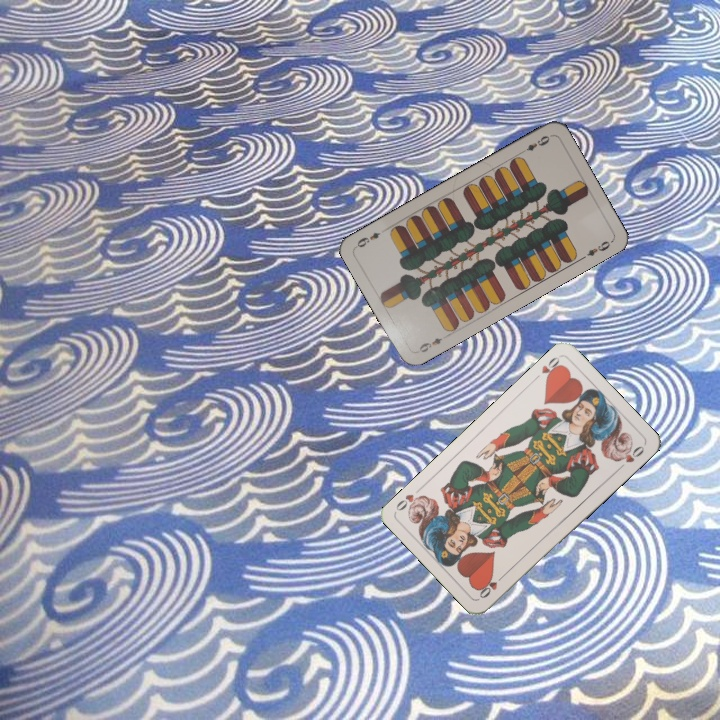E9: (517, 131, 554, 156), (415, 331, 450, 355)
HO: (475, 570, 508, 601), (537, 352, 565, 384)
